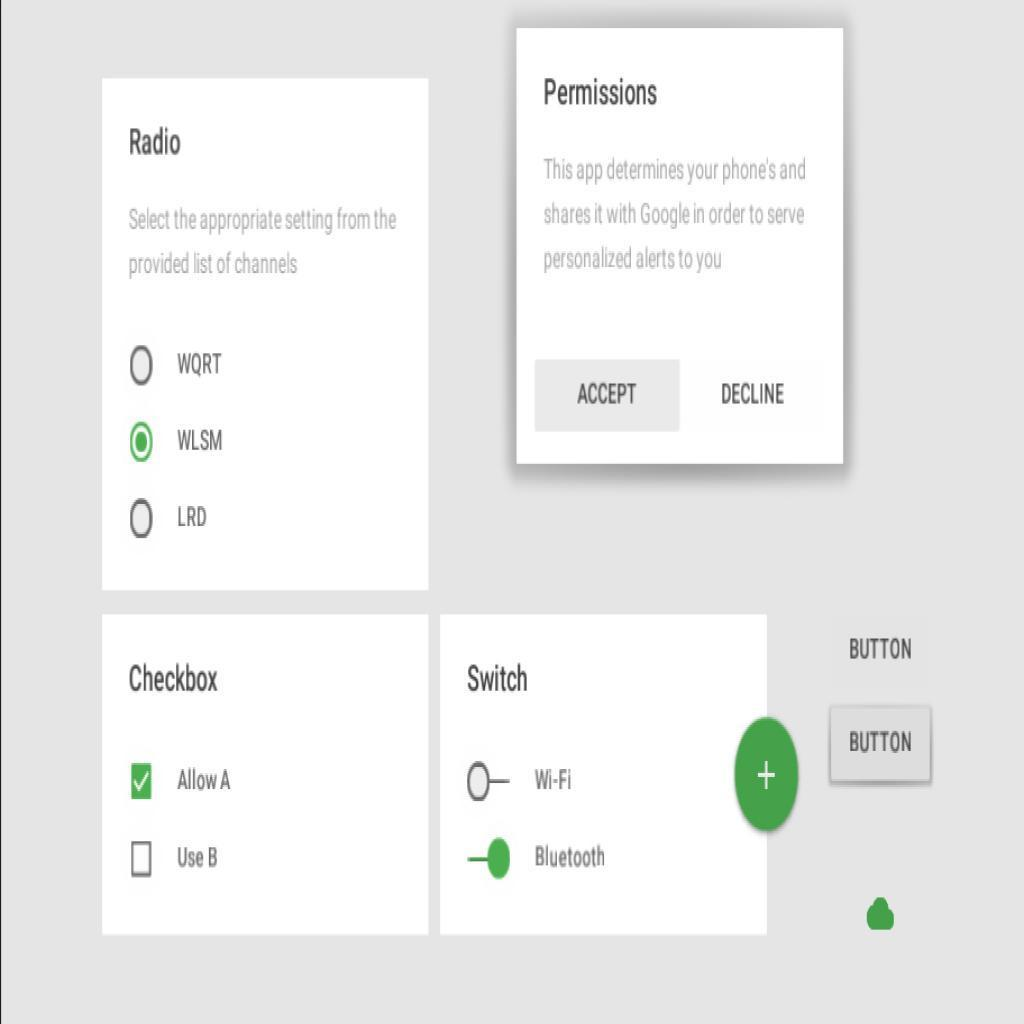button: (537, 358, 681, 433), (831, 706, 932, 783)
checkbox: (132, 764, 153, 800), (132, 843, 153, 877)
icon: (866, 895, 898, 936), (757, 760, 777, 793)
label: (543, 76, 660, 112), (129, 663, 225, 699), (465, 659, 533, 699), (534, 841, 609, 871), (848, 634, 917, 664), (125, 129, 184, 160), (721, 382, 786, 410), (174, 349, 225, 380), (175, 770, 235, 794), (176, 427, 225, 455), (177, 842, 221, 873), (532, 766, 578, 795), (177, 505, 209, 532)
radio: (129, 346, 156, 388), (132, 423, 155, 465), (131, 500, 154, 539)
switch: (470, 838, 512, 881), (467, 761, 511, 802)
